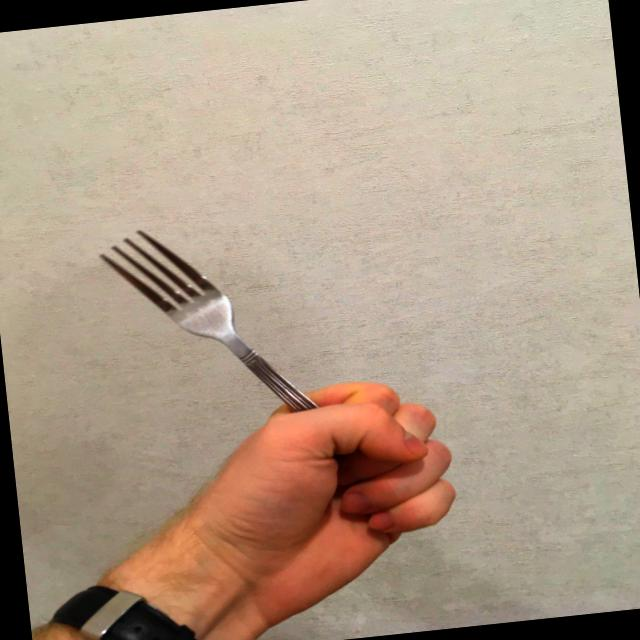fork: (96, 207, 374, 528)
